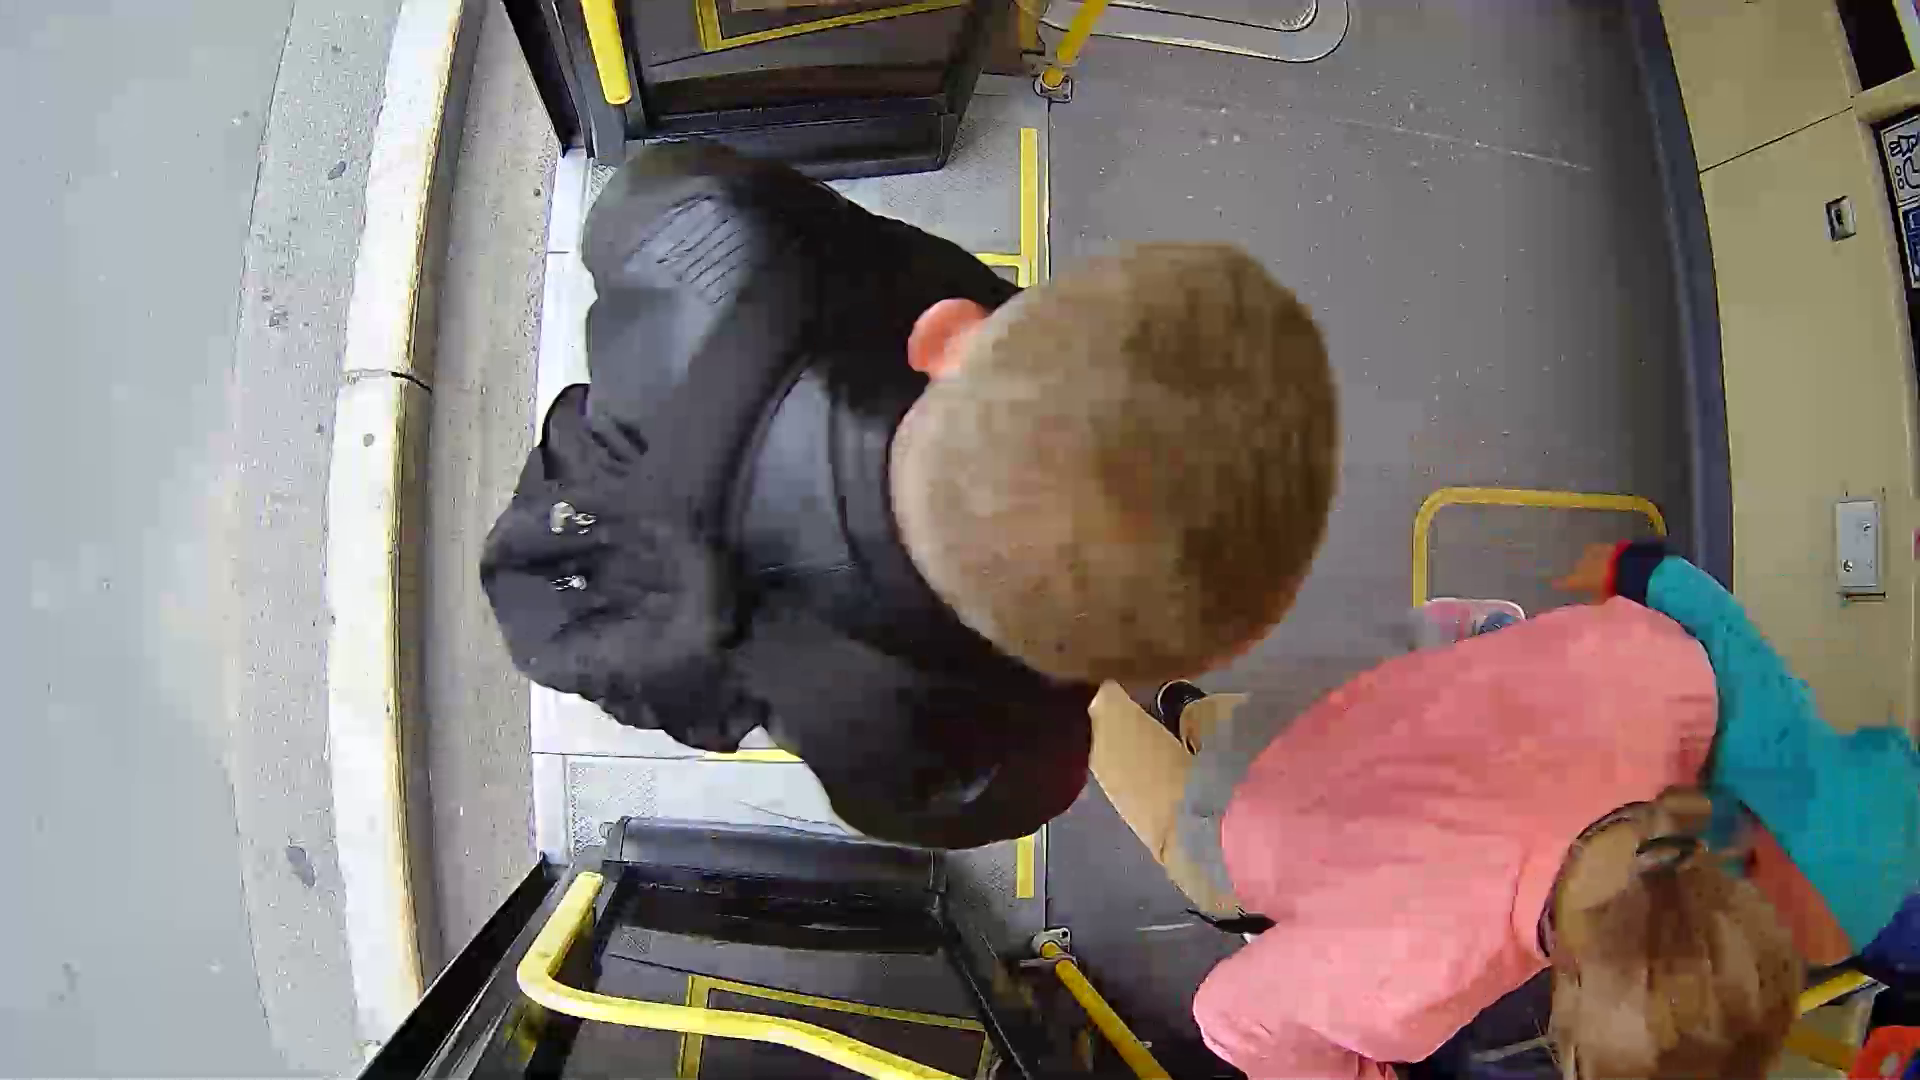person: (465, 133, 1457, 894)
